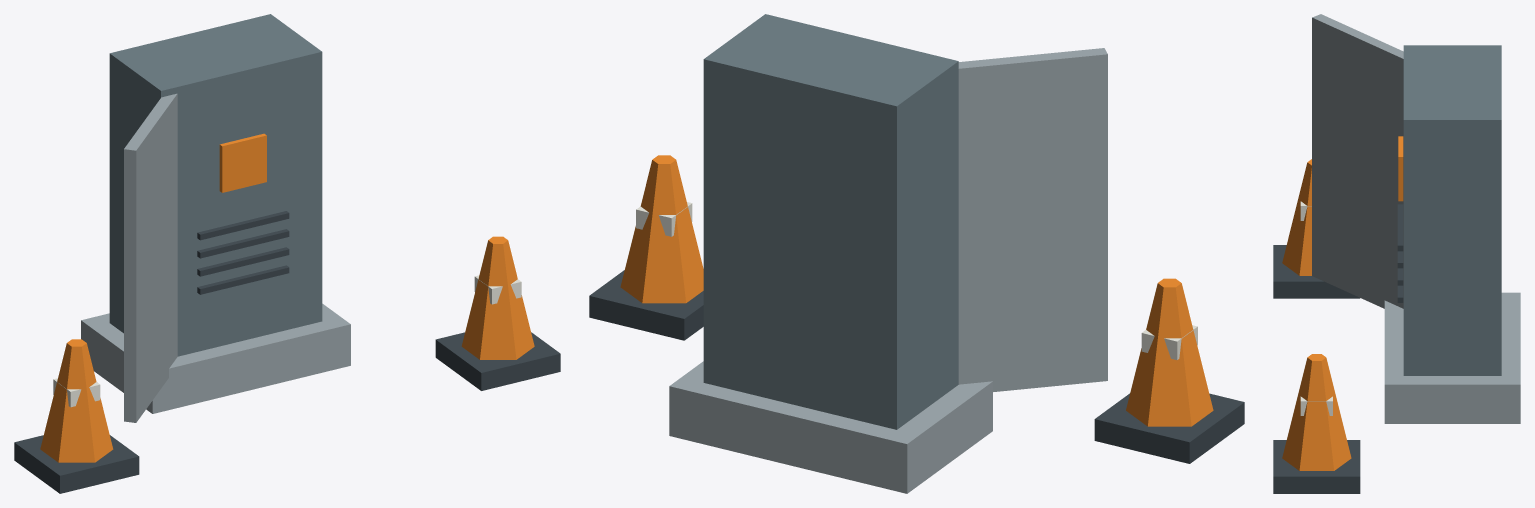
Rendered from Broken_Utility_Box.fbx.
The picture shows the model from 3 angles, left to right: view 1: azimuth 30°, elevation 25°; view 2: azimuth 150°, elevation 25°; view 3: azimuth 270°, elevation 25°; orthographic projection. The views are drawn at different scales.
Parts seen in each view (by area): view 1: Broken_Utility_Box_Mesh; view 2: Broken_Utility_Box_Mesh; view 3: Broken_Utility_Box_Mesh.
Boxes of the visible parts, x1=… form: Broken_Utility_Box_Mesh: x1=14, y1=14, x2=560, y2=493; Broken_Utility_Box_Mesh: x1=589, y1=14, x2=1244, y2=493; Broken_Utility_Box_Mesh: x1=1273, y1=14, x2=1520, y2=493.
Bounding box in the file's own units: 202 × 120 × 91.
